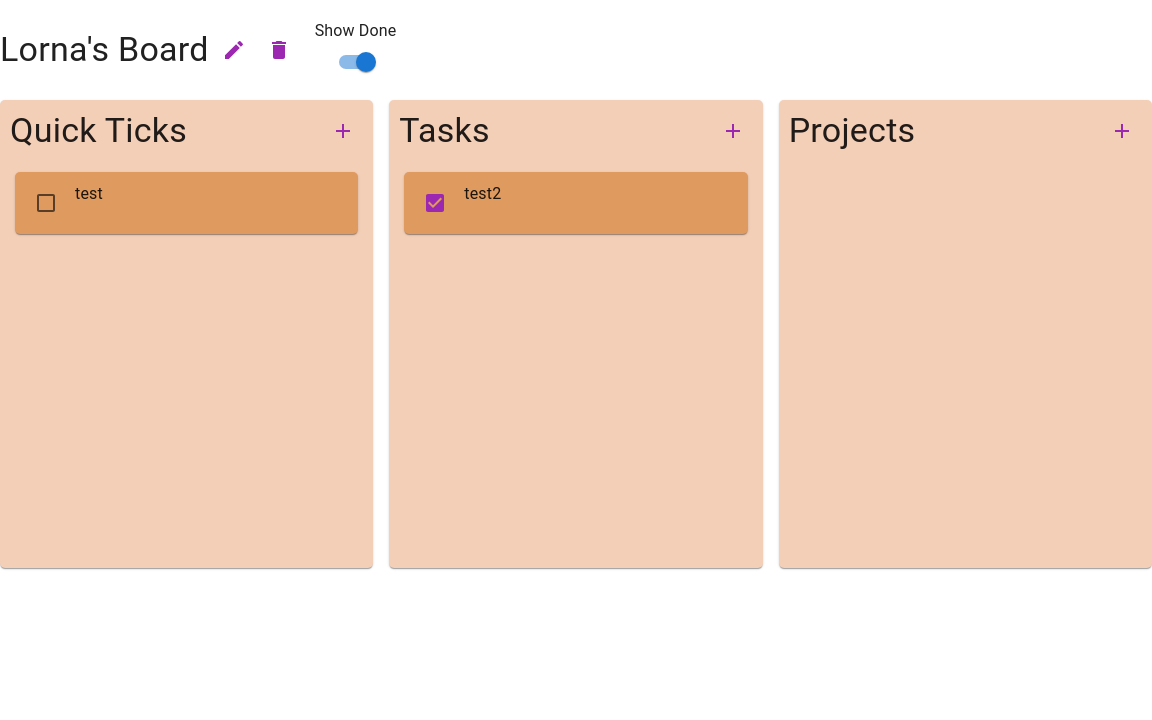
it: Board page › should render create modal when add button clicked
The width and height of the screenshot is (1152, 720).
Click the button with test id "add-quick-tick-button" at (343, 131), box [323,110,363,152]
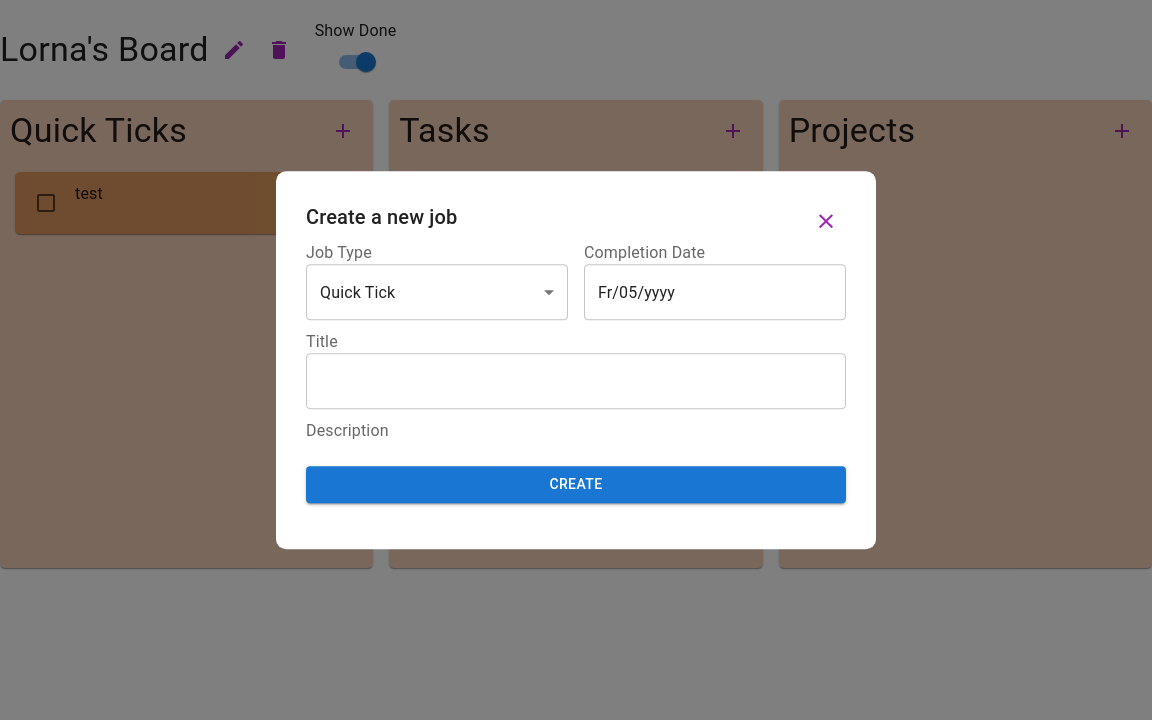
expect the element with test id "create-job-modal" is shown: met
Click the button with test id "close-create-modal-button" at (826, 221), box [806,201,846,241]
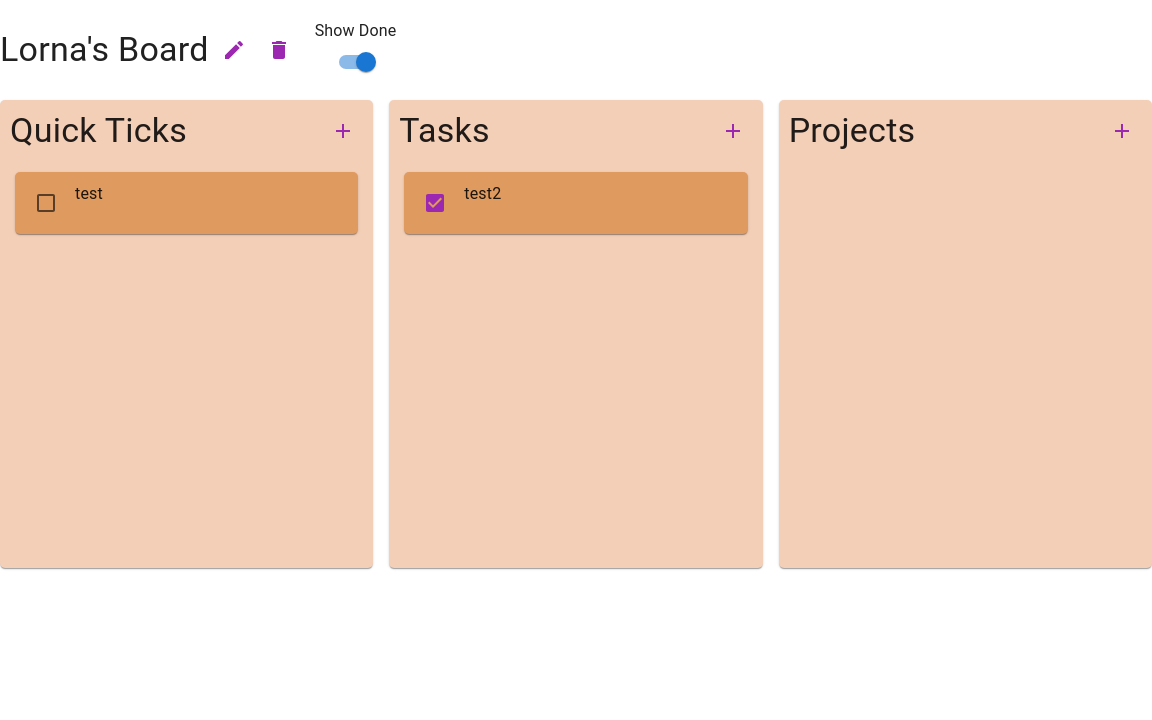
expect the element with test id "create-job-modal" is gone: met
Click the button with test id "add-task-button" at (733, 131), box [713,110,753,152]
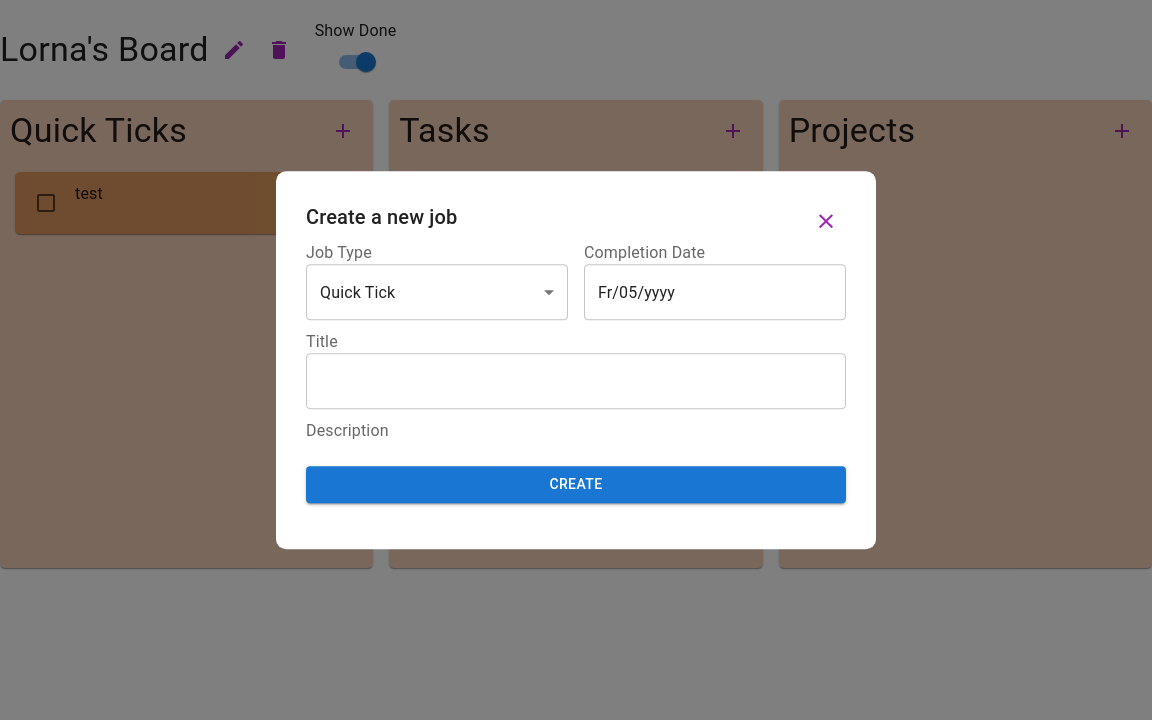
expect the element with test id "create-job-modal" is shown: met
Click the button with test id "close-create-modal-button" at (826, 221), box [806,201,846,241]
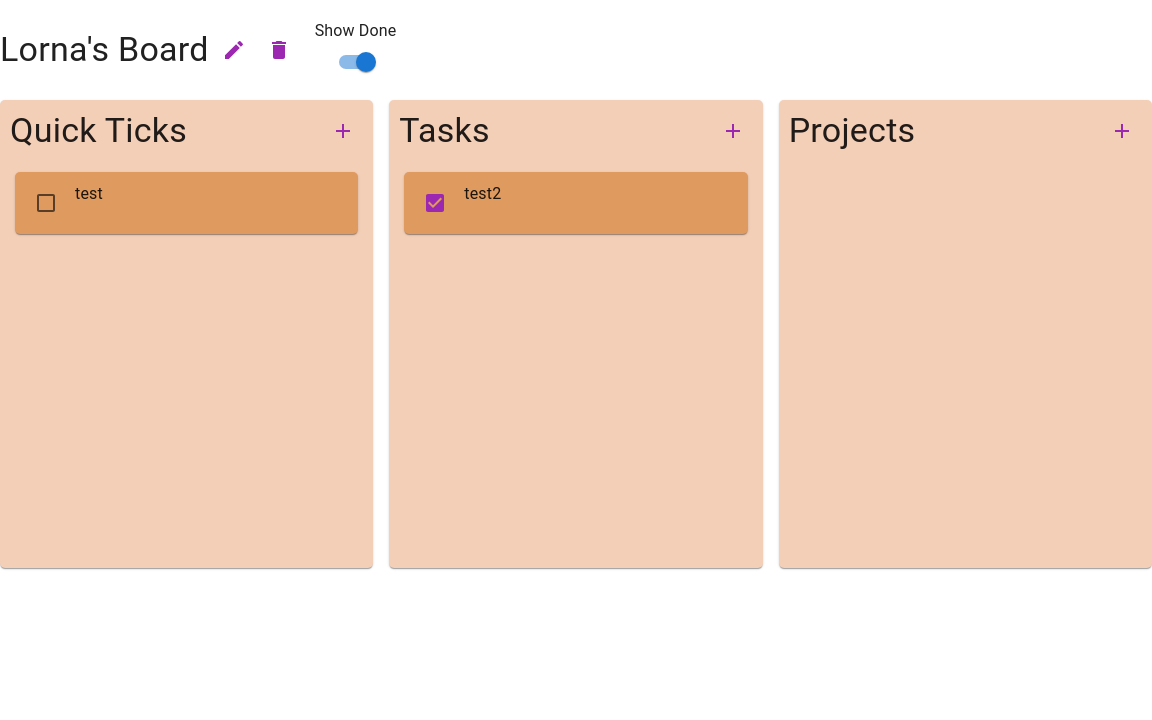
expect the element with test id "create-job-modal" is gone: met
Click the button with test id "add-project-button" at (1122, 131), box [1102,110,1142,152]
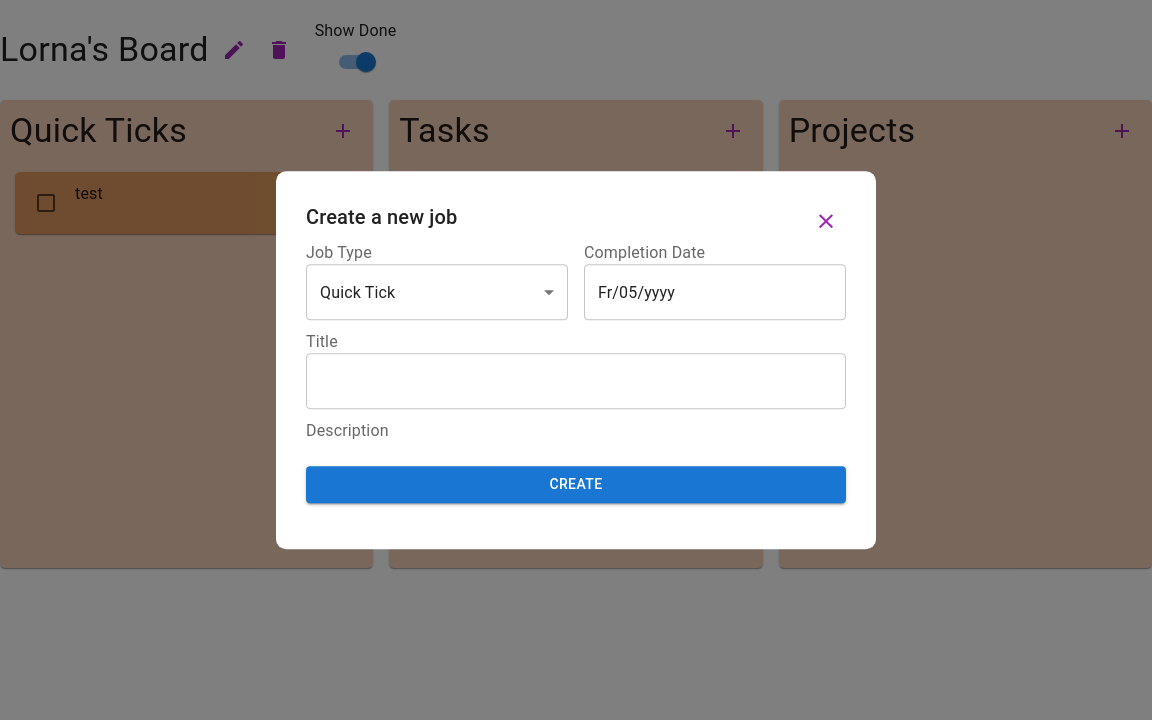
expect the element with test id "create-job-modal" is shown: met
Click the button with test id "close-create-modal-button" at (826, 221), box [806,201,846,241]
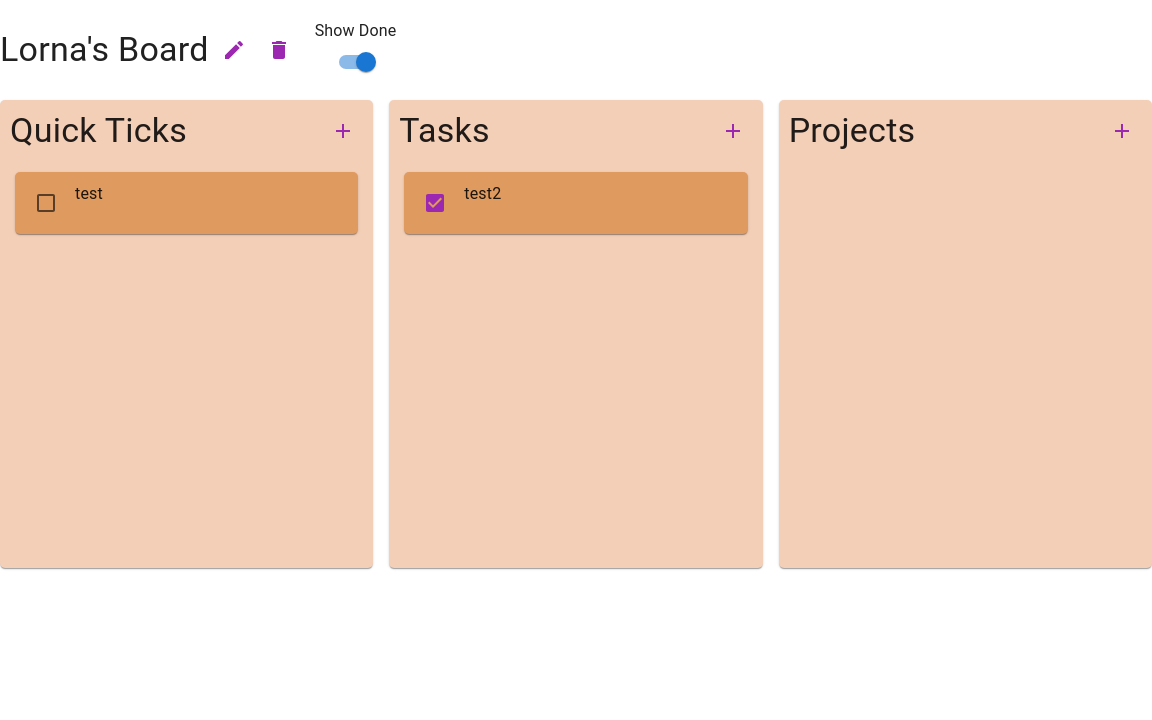
expect the element with test id "create-job-modal" is gone: met
